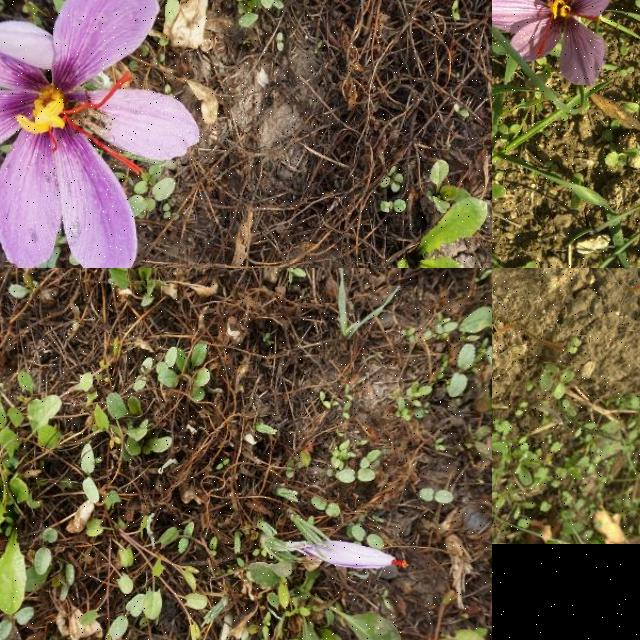flower: (0, 0, 200, 268), (492, 0, 616, 86), (299, 540, 406, 570)
